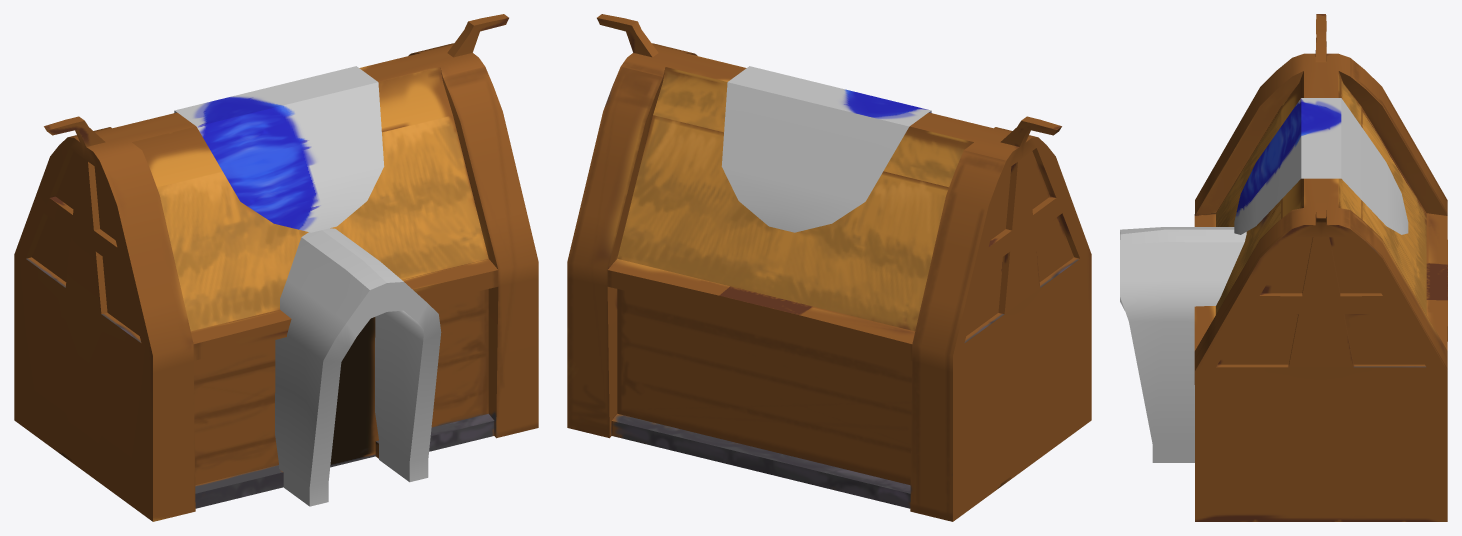
File: vikingbina.fbx
The picture shows the model from 3 angles, left to right: view 1: azimuth 30°, elevation 25°; view 2: azimuth 150°, elevation 25°; view 3: azimuth 270°, elevation 25°; orthographic projection. The views are drawn at different scales.
Visible parts, largest first — view 1: bina, kapı, bayrak; view 2: bina, bayrak; view 3: bina, kapı, bayrak.
Boxes of the visible parts, x1,y1,x2,y2 form: bina: (14,14,538,521); kapı: (275,228,441,506); bayrak: (174,66,384,232); bina: (567,14,1091,521); bayrak: (721,66,931,232); bina: (1194,14,1447,521); kapı: (1120,227,1246,462); bayrak: (1234,98,1408,234).
Bounding box in the file's own units: 2413 × 1770 × 1636.
